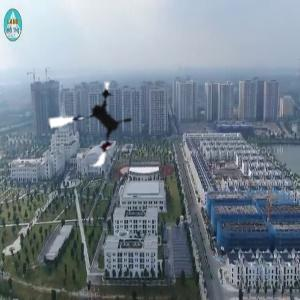drone: (46, 77, 141, 172)
